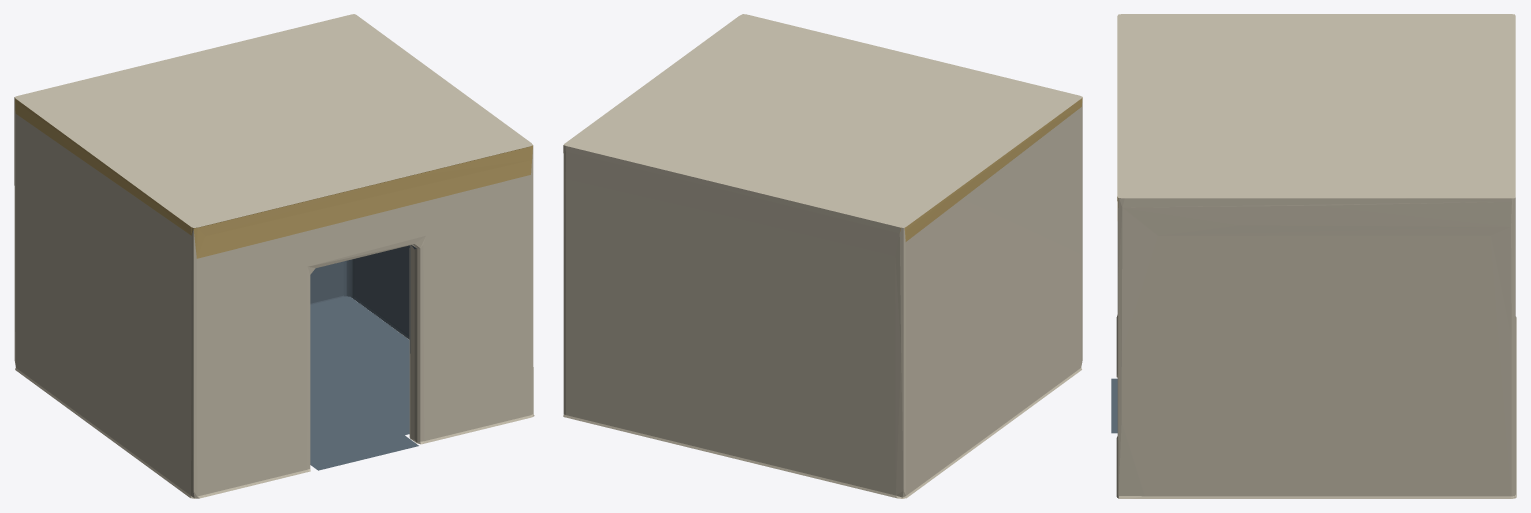
The model's file is etape-1.glb.
The picture shows the model from 3 angles, left to right: view 1: azimuth 30°, elevation 25°; view 2: azimuth 150°, elevation 25°; view 3: azimuth 270°, elevation 25°; orthographic projection. The views are drawn at different scales.
Parts seen in each view (by area): view 1: geometry_0; view 2: geometry_0; view 3: geometry_0.
Part boxes in pixels (<box>): geometry_0: <box>14,14,534,498</box>; geometry_0: <box>563,14,1082,498</box>; geometry_0: <box>1111,14,1516,498</box>.
Size of the model in its own units: 0.7385 by 0.5586 by 0.6835.
